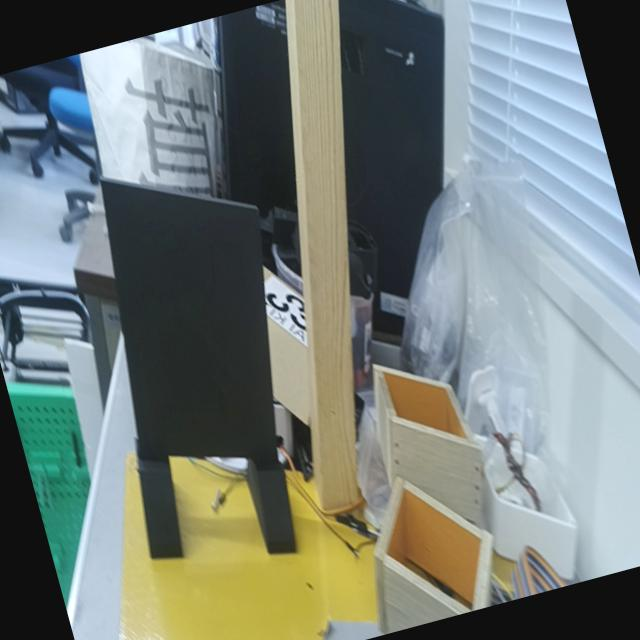Wall: (100, 180, 279, 463)
